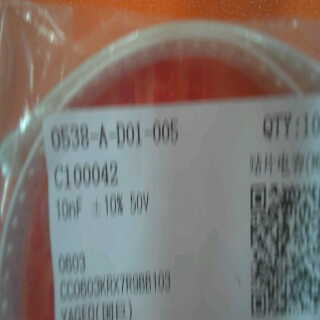10nF: (54, 193, 87, 223)
